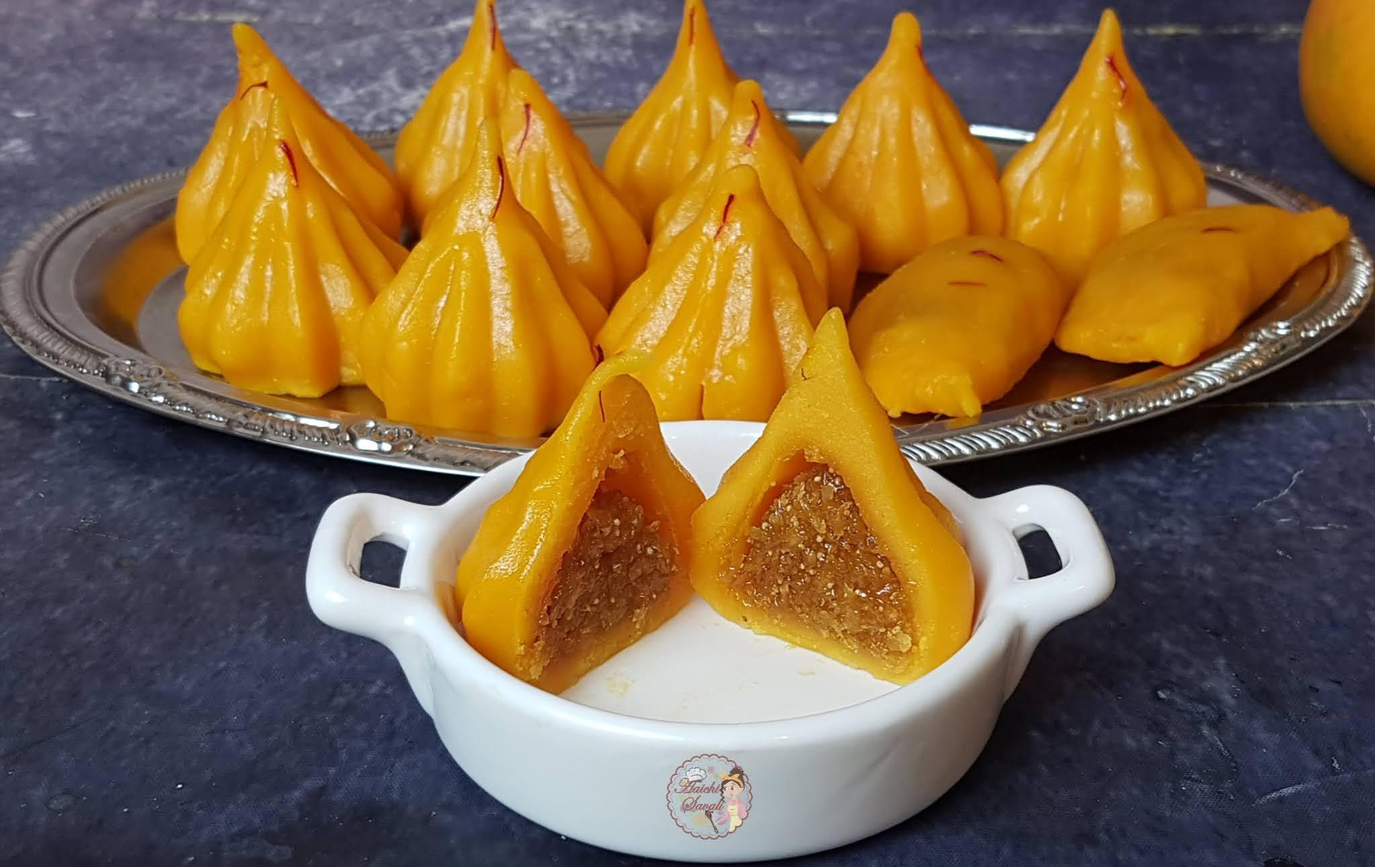modak: (243, 82, 1145, 343), (483, 354, 938, 697)
